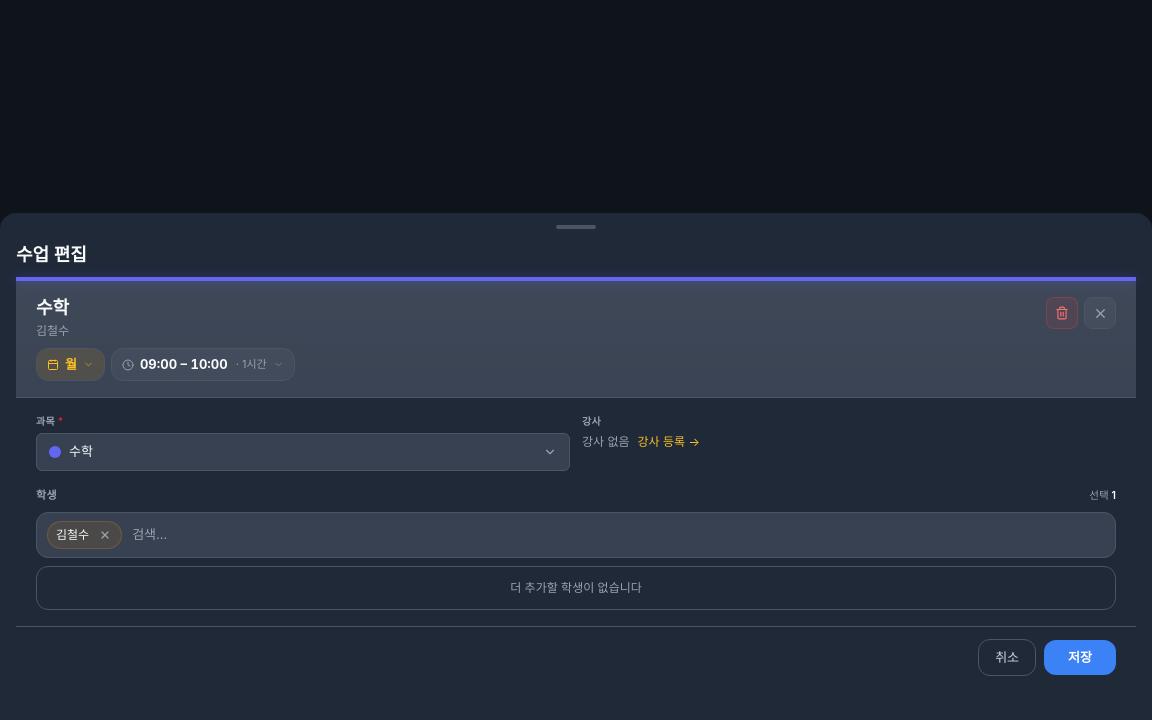
Test: EditSessionModal Integration Tests › 시간 chip 클릭 후 popover에 에러 메시지가 표시되어야 한다 (Variant C 채택, 2026-05-12)
Step 1. Click the button with aria-label "수업 시간:" → (203, 365), box left=111, top=348, right=295, bottom=381
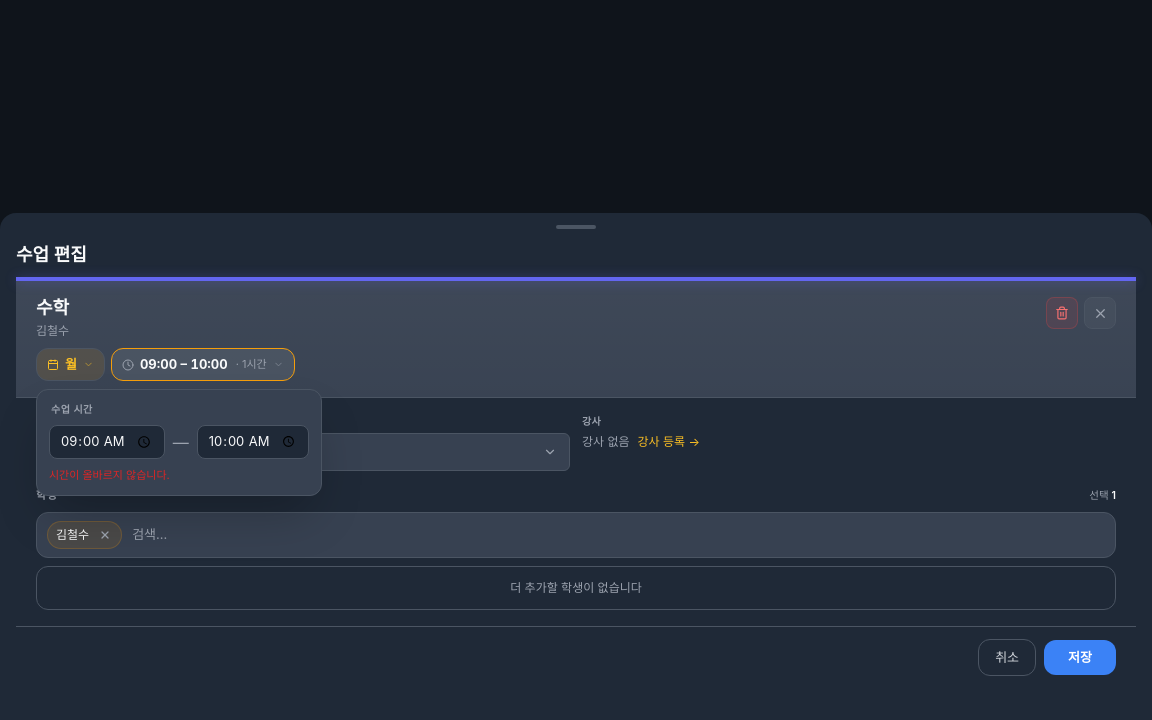
Now the text "시간이 올바르지 않습니다." is shown, box left=49, top=468, right=170, bottom=482
